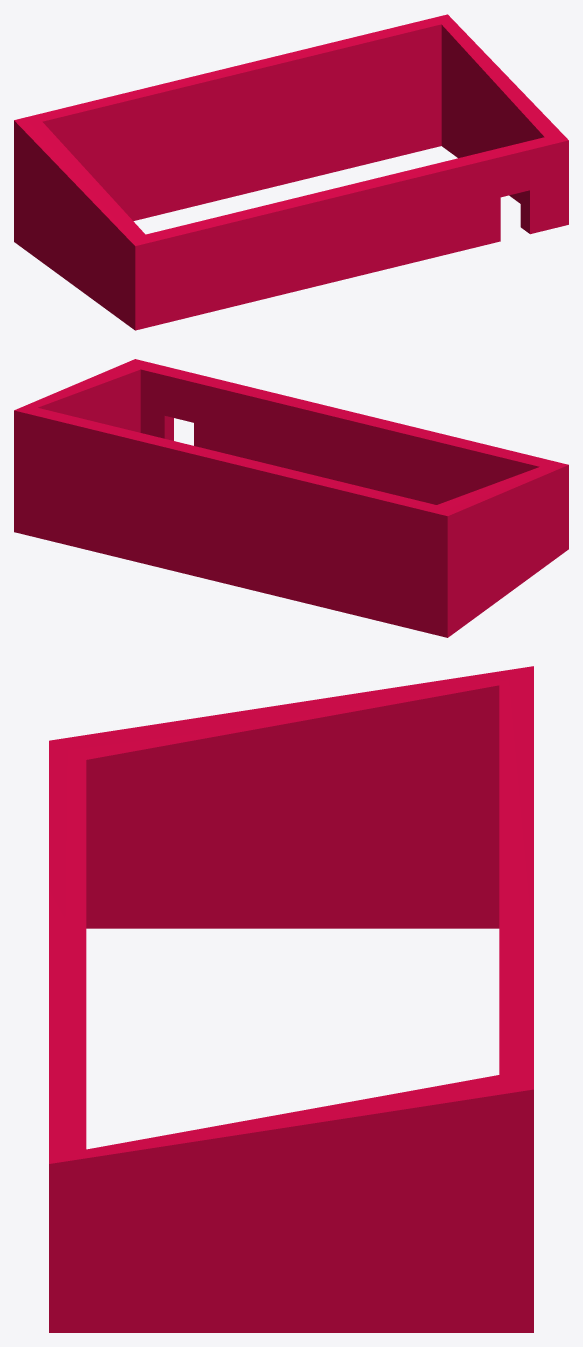
The model's file is Barzinho.fbx.
3 renders of one model, top to bottom at view 1: azimuth 30°, elevation 25°; view 2: azimuth 150°, elevation 25°; view 3: azimuth 270°, elevation 25°, orthographic. The views are drawn at different scales.
Parts seen in each view (by area): view 1: pCube217; view 2: pCube217; view 3: pCube217.
Part boxes in pixels (x1,y1,x2,y2): pCube217: (14,14,568,330); pCube217: (14,359,568,637); pCube217: (49,666,533,1332).
Size of the model in its own units: 2351 by 630 by 1138.
